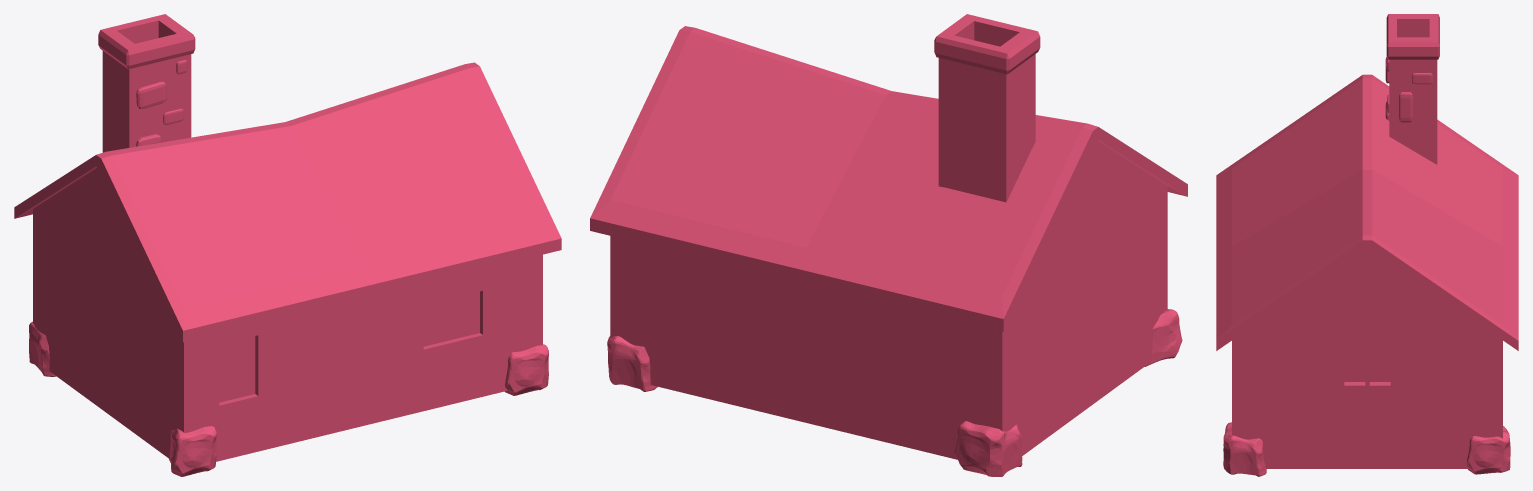
Rendered from House_01_Model.fbx.
3 views of the same model, side by side, from view 1: azimuth 30°, elevation 25°; view 2: azimuth 150°, elevation 25°; view 3: azimuth 270°, elevation 25° (orthographic). The views are drawn at different scales.
Visible parts, largest first — view 1: House; view 2: House; view 3: House.
Boxes of the visible parts, x1=… form: House: x1=14, y1=14, x2=561, y2=476; House: x1=590, y1=14, x2=1187, y2=476; House: x1=1216, y1=14, x2=1518, y2=476.
Size of the model in its own units: 607 by 540 by 467.
